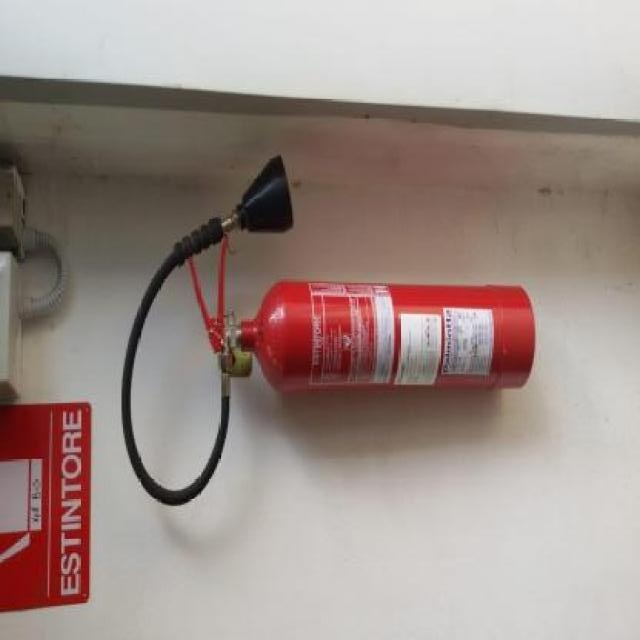fire extinguisher: (121, 150, 535, 507)
